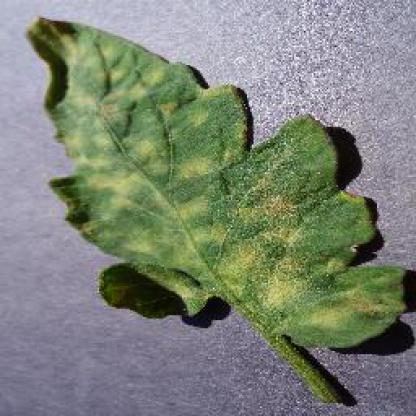bad leaf: (15, 13, 398, 324)
